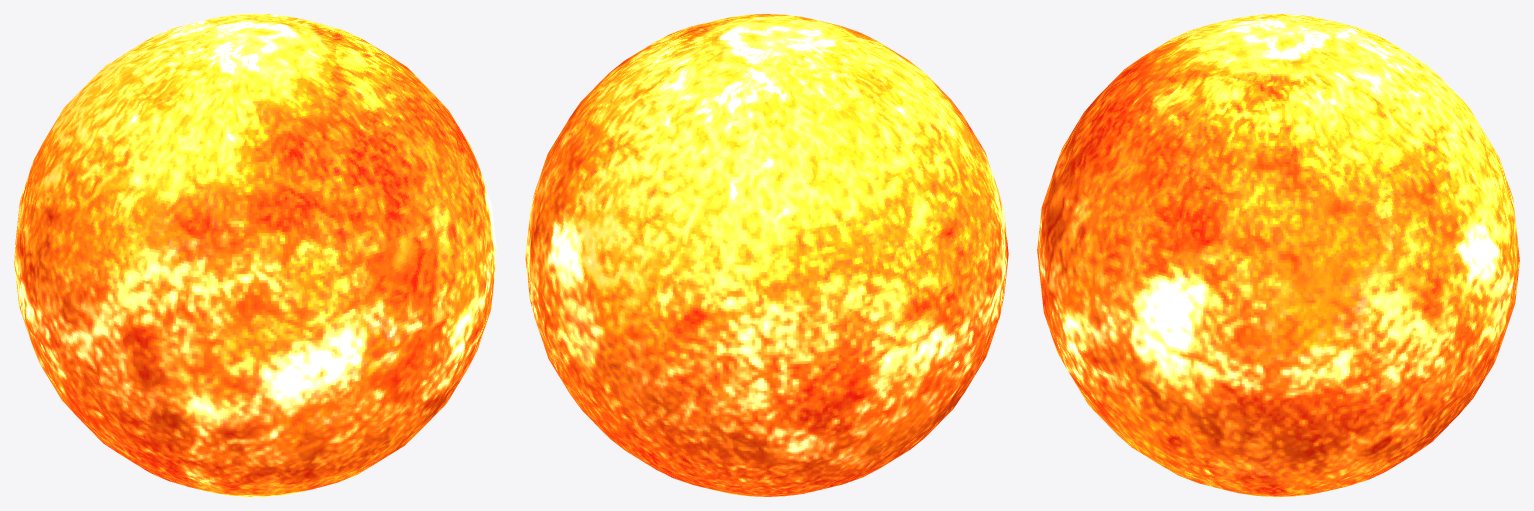
Rendered from sun.glb.
3 views of the same model, side by side, from view 1: azimuth 30°, elevation 25°; view 2: azimuth 150°, elevation 25°; view 3: azimuth 270°, elevation 25° (orthographic).
Visible parts, largest first — view 1: sun; view 2: sun; view 3: sun.
Part boxes in pixels (x1=…): sun: x1=14, y1=14, x2=496, y2=496; sun: x1=525, y1=14, x2=1008, y2=496; sun: x1=1037, y1=14, x2=1519, y2=496.
Size of the model in its own units: 48.76 by 48.83 by 48.76.
Materials: 1 (1 with a texture image).
